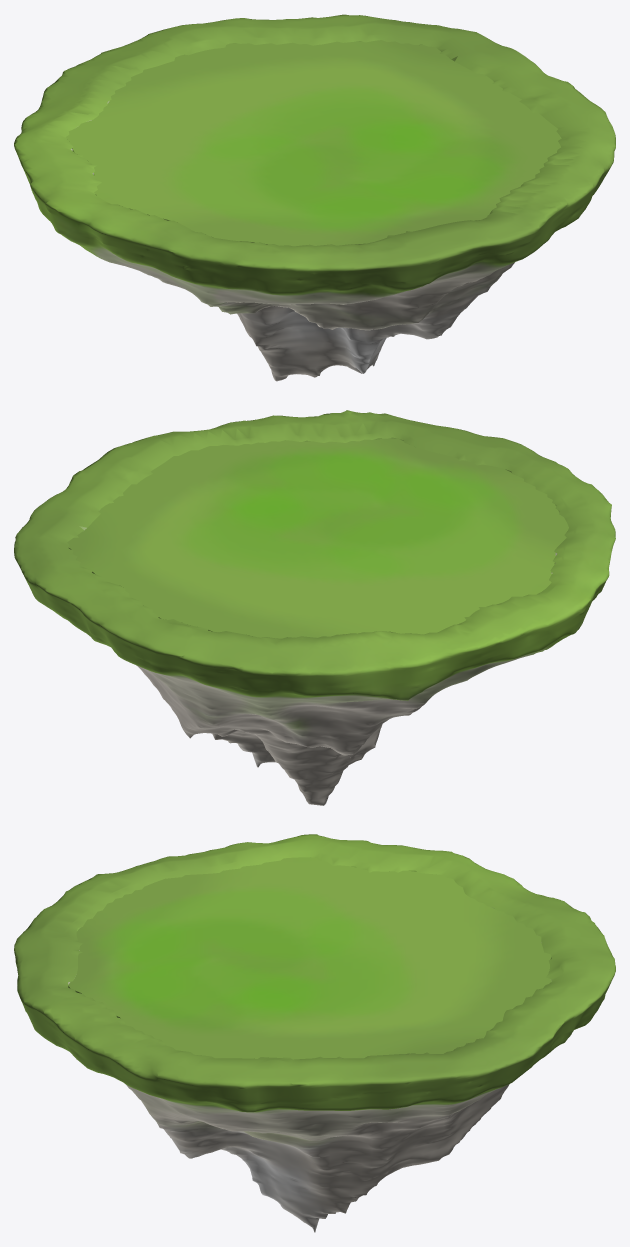
The model's file is TutorialIsland_A.fbx.
3 views of the same model, one above another, from view 1: azimuth 30°, elevation 25°; view 2: azimuth 150°, elevation 25°; view 3: azimuth 270°, elevation 25° (orthographic).
Parts seen in each view (by area): view 1: Landscape.001; view 2: Landscape.001; view 3: Landscape.001.
Part boxes in pixels (box(x1,y1,x2,y2)): Landscape.001: box(14, 14, 615, 381); Landscape.001: box(14, 410, 615, 805); Landscape.001: box(14, 834, 615, 1232).
Bounding box in the file's own units: 7960 × 3725 × 8103.
